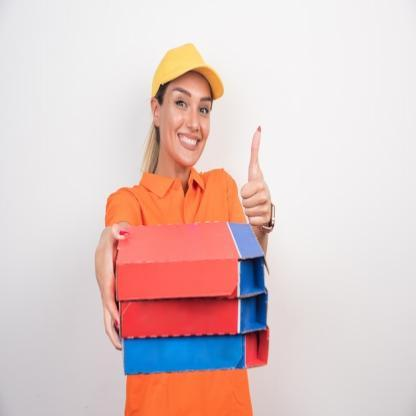thumb_up: (238, 120, 280, 234)
